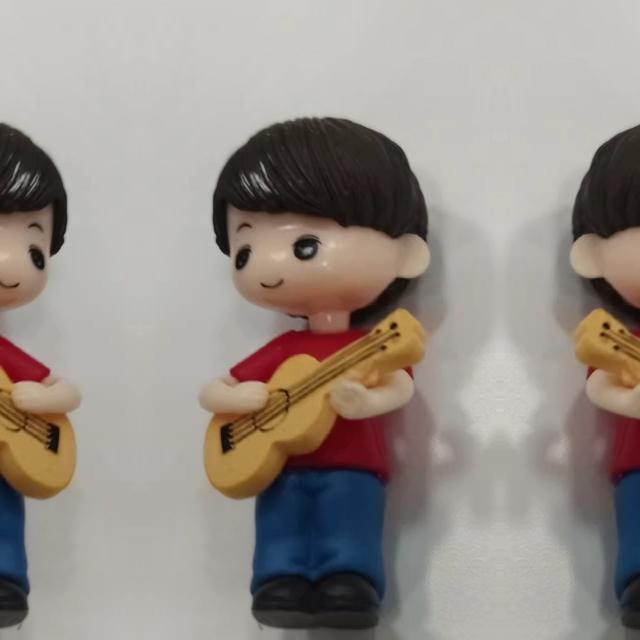man cloth: (224, 328, 416, 490), (583, 328, 640, 490), (0, 328, 56, 490)
man head: (206, 111, 434, 323), (565, 111, 640, 323), (0, 111, 74, 323)
trousers: (245, 464, 399, 634), (601, 464, 640, 634), (0, 464, 35, 634)
